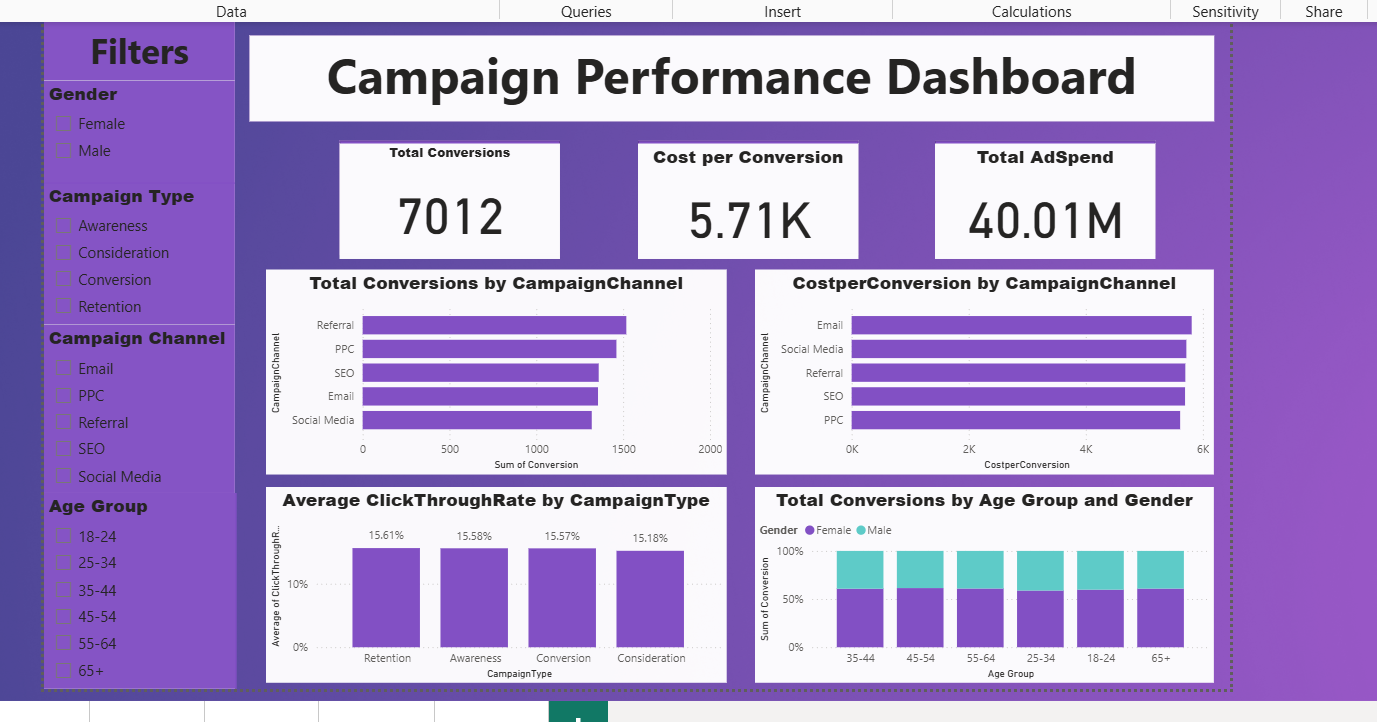

Layout of this report page (visuals, bound fields, positions):
{"tool":"powerbi","page":{"name":"Page 1","canvas":[1280,720],"ordinal":0},"visuals":[{"type":"shape","box":[221.1,15.1,1041.3,92.6],"z":0},{"type":"shape","box":[319.4,128.5,238.1,122.8],"z":1000},{"type":"shape","box":[961.9,128.5,238.1,122.8],"z":2000},{"type":"shape","box":[640.6,128.5,238.1,122.8],"z":3000},{"type":"card","title":"Total AdSpend","fields":{"Values":["digital_marketing_campaign_data.TotalAdSpend"]},"box":[961.9,130.4,238.1,124.7],"z":5000},{"type":"card","title":"Total Conversions","fields":{"Values":["digital_marketing_campaign_data.TotalConversions"]},"box":[319.4,130.4,238.1,124.7],"z":6000},{"type":"card","title":"Cost per Conversion","fields":{"Values":["digital_marketing_campaign_data.CostperConversion"]},"box":[640.6,130.4,238.1,124.7],"z":7000},{"type":"clusteredColumnChart","title":"Average  ClickThroughRate by CampaignType","fields":{"Category":["digital_marketing_campaign_data.CampaignType"],"Y":["Avg(digital_marketing_campaign_data.ClickThroughRate)"]},"box":[240,502.7,497,211.7],"z":9000},{"type":"barChart","fields":{"Y":["digital_marketing_campaign_data.CostperConversion"],"Category":["digital_marketing_campaign_data.CampaignChannel"]},"box":[767.2,266.5,495.1,221.1],"z":10000},{"type":"barChart","title":"Total Conversions by CampaignChannel","fields":{"Category":["digital_marketing_campaign_data.CampaignChannel"],"Y":["Sum(digital_marketing_campaign_data.Conversion)"]},"box":[241.9,268.3,497,221.1],"z":11000},{"type":"hundredPercentStackedColumnChart","title":"Total Conversions by Age Group  and Gender","fields":{"Category":["digital_marketing_campaign_data.Age Group "],"Y":["Sum(digital_marketing_campaign_data.Conversion)"],"Series":["digital_marketing_campaign_data.Gender"]},"box":[767.2,502.7,495.1,211.7],"z":12000},{"type":"shape","box":[0,0,206,720],"z":13000},{"type":"slicer","title":"Gender","fields":{"Values":["digital_marketing_campaign_data.Gender"]},"box":[0,62.4,206,111.5],"z":14000},{"type":"slicer","title":"Campaign Channel","fields":{"Values":["digital_marketing_campaign_data.CampaignChannel"]},"box":[0,326.9,206,181.4],"z":15000},{"type":"slicer","title":"Campaign Type","fields":{"Values":["digital_marketing_campaign_data.CampaignType"]},"box":[0,173.9,206,153.1],"z":16000},{"type":"slicer","title":"Age Group","fields":{"Values":["digital_marketing_campaign_data.Age Group "]},"box":[0,508.4,207.9,211.7],"z":17000},{"type":"shape","box":[0,0,206,62.4],"z":18000},{"type":"textbox","box":[0,0,206,62.4],"z":19000},{"type":"textbox","box":[221.1,15.1,1041.3,92.6],"z":20000}]}

Visuals, with their boxes on the page's 1280x720 design canvas (x1, y1, x2, y2). These are canvas units, not pixel positions in the 1377x722 screenshot, which may show the page scaled, cropped or inside an application window:
shape: [left=221, top=15, right=1262, bottom=108]
shape: [left=319, top=128, right=558, bottom=251]
shape: [left=962, top=128, right=1200, bottom=251]
shape: [left=641, top=128, right=879, bottom=251]
"Total AdSpend" card: [left=962, top=130, right=1200, bottom=255]
"Total Conversions" card: [left=319, top=130, right=558, bottom=255]
"Cost per Conversion" card: [left=641, top=130, right=879, bottom=255]
"Average  ClickThroughRate by CampaignType" clusteredColumnChart: [left=240, top=503, right=737, bottom=714]
barChart - digital_marketing_campaign_data.CostperConversion x digital_marketing_campaign_data.CampaignChannel: [left=767, top=266, right=1262, bottom=488]
"Total Conversions by CampaignChannel" barChart: [left=242, top=268, right=739, bottom=489]
"Total Conversions by Age Group  and Gender" hundredPercentStackedColumnChart: [left=767, top=503, right=1262, bottom=714]
shape: [left=0, top=0, right=206, bottom=720]
"Gender" slicer: [left=0, top=62, right=206, bottom=174]
"Campaign Channel" slicer: [left=0, top=327, right=206, bottom=508]
"Campaign Type" slicer: [left=0, top=174, right=206, bottom=327]
"Age Group" slicer: [left=0, top=508, right=208, bottom=720]
shape: [left=0, top=0, right=206, bottom=62]
textbox: [left=0, top=0, right=206, bottom=62]
textbox: [left=221, top=15, right=1262, bottom=108]
